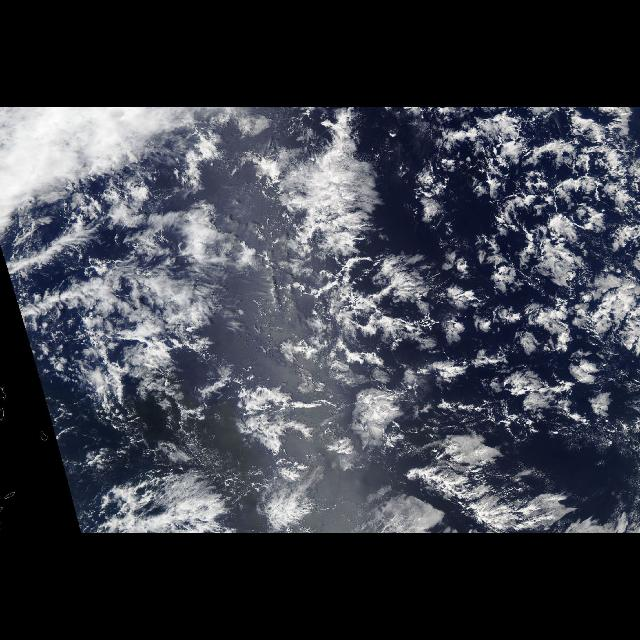Fish: (352, 379, 602, 533)
Flower: (386, 125, 640, 451)
